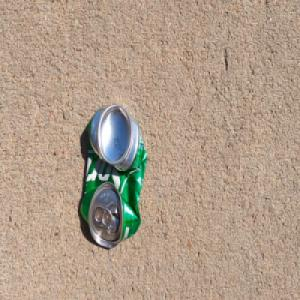SodaCan: (79, 103, 148, 250)
